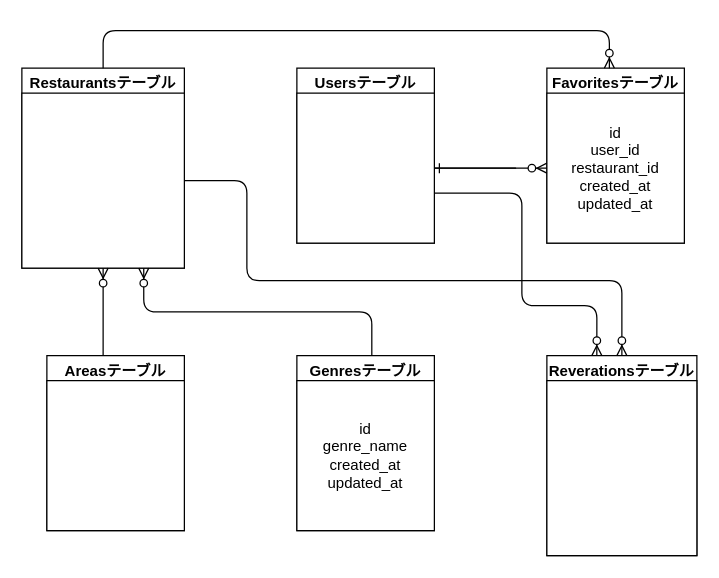
Some shapes in this 719 by 578 pixel diagram are drawn without their labels. Each missing label, with the centre of its shape:
id area_name created_at updated_at: pixel 115 455
id name area_id genre_id image_url detile created_at updated_at: pixel 102 180
id name email password created_at updated_at: pixel 365 167
id user_id Restaurant_id datetime number_reservation created_at updated_at: pixel 621 467
